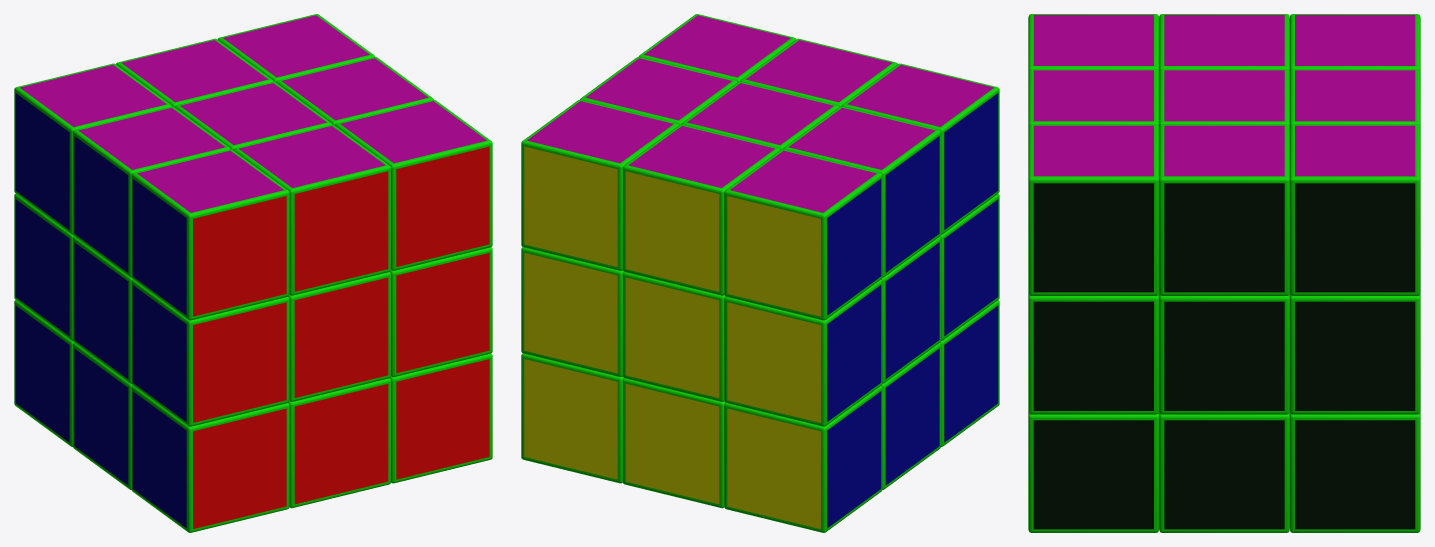
Rendered from Rubik's Cube.fbx.
3 renders of one model, left to right at view 1: azimuth 30°, elevation 25°; view 2: azimuth 150°, elevation 25°; view 3: azimuth 270°, elevation 25°, orthographic. The views are drawn at different scales.
Parts seen in each view (by area): view 1: Box046, Box028, Box037, Box047, Box048, Box052, Box049, Box030, Box029, Box039, Box038, Box031 (+7 smaller); view 2: Box052, Box034, Box043, Box053, Box054, Box046, Box049, Box036, Box035, Box045, Box044, Box031 (+7 smaller); view 3: Box048, Box051, Box054, Box033, Box030, Box036, Box039, Box042, Box045, Box049, Box046, Box052 (+3 smaller).
Part boxes in pixels (x1,y1,x2,y2): Box046: (131,149,289,320); Box028: (131,386,289,532); Box037: (131,279,289,426); Box047: (233,124,390,295); Box048: (335,100,492,270); Box052: (14,63,171,234); Box049: (73,106,230,277); Box030: (390,353,492,483); Box029: (288,378,390,508); Box039: (390,247,492,376); Box038: (288,272,390,401); Box031: (73,343,132,489); Box052: (724,149,882,320); Box034: (724,386,882,532); Box043: (724,279,882,426); Box053: (623,124,780,295); Box054: (521,100,678,270); Box046: (842,63,999,234); Box049: (783,106,940,277); Box036: (521,353,623,483); Box035: (623,378,725,508); Box045: (521,247,623,376); Box044: (623,272,725,401); Box031: (881,343,940,489); Box048: (1028,124,1158,295); Box051: (1159,124,1289,295); Box054: (1290,124,1420,295); Box033: (1159,411,1289,532); Box030: (1028,411,1158,532); Box036: (1290,411,1420,532); Box039: (1028,293,1158,414); Box042: (1159,293,1289,414); Box045: (1290,293,1420,414); Box049: (1159,14,1289,72); Box046: (1028,14,1158,72); Box052: (1290,14,1420,72).
Bounding box in the file's own units: 25.75 × 25.75 × 25.75.
